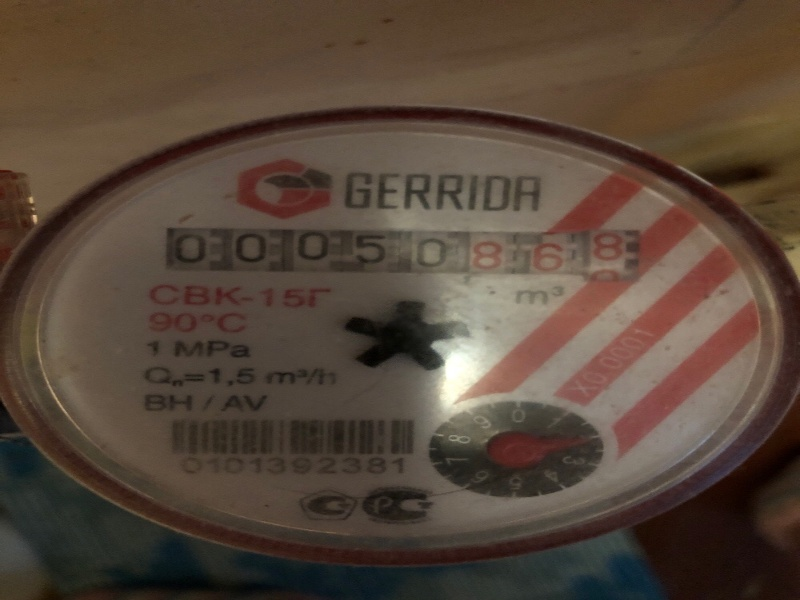meter: (154, 210, 650, 287)
